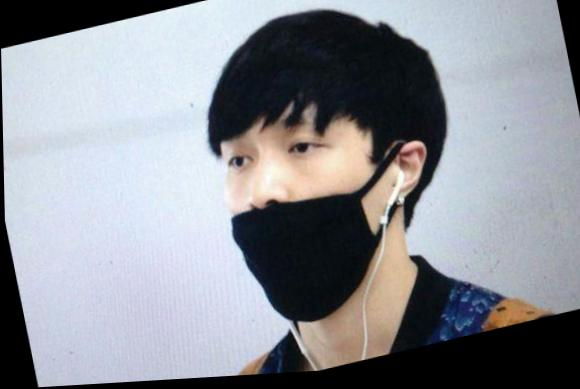WRONG: (203, 90, 431, 331)
